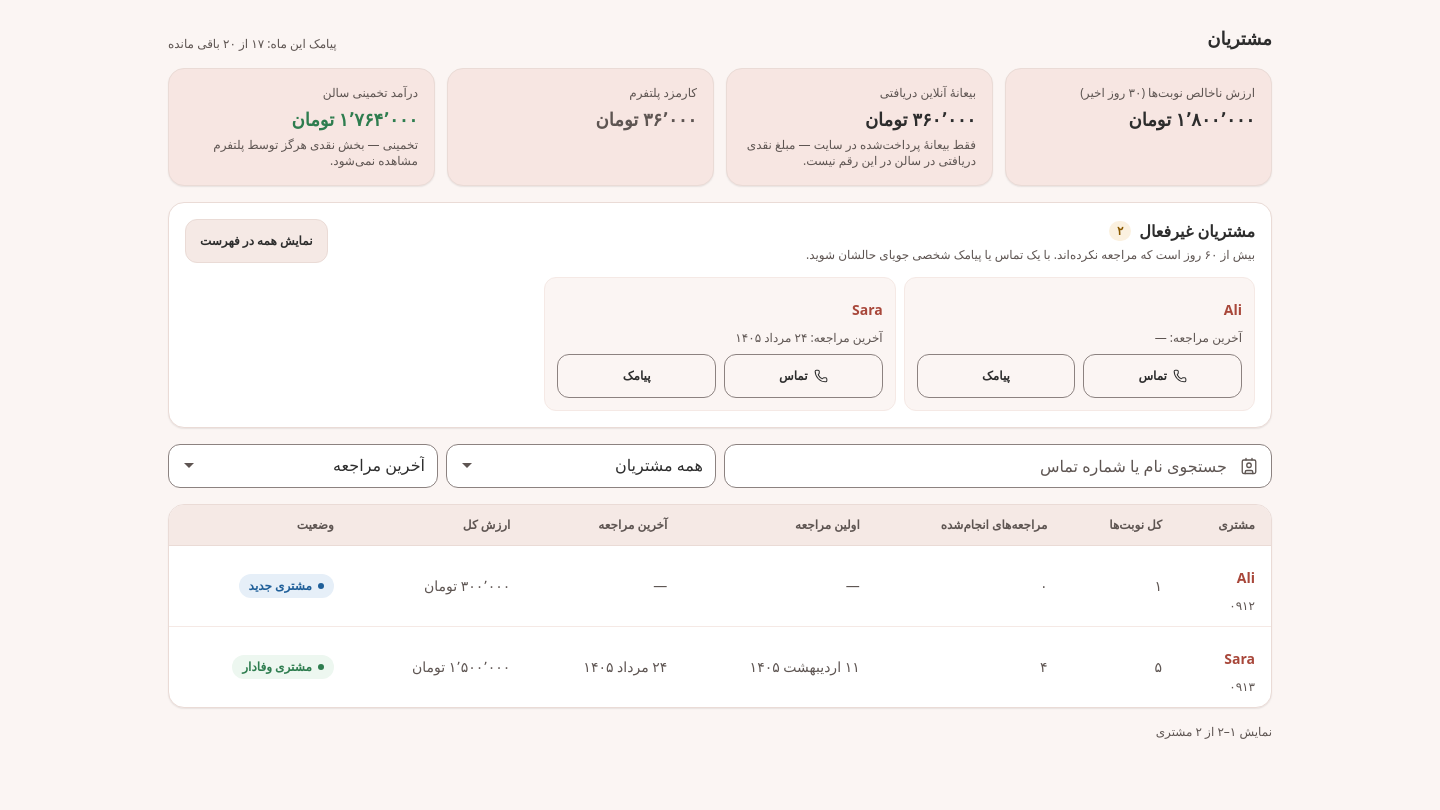
Test case: CustomersView › ignores a stale response that arrives after a newer one
Type "مر" into the field with test id "customer-search". click: (998, 466)
box: [724,444,1272,488]
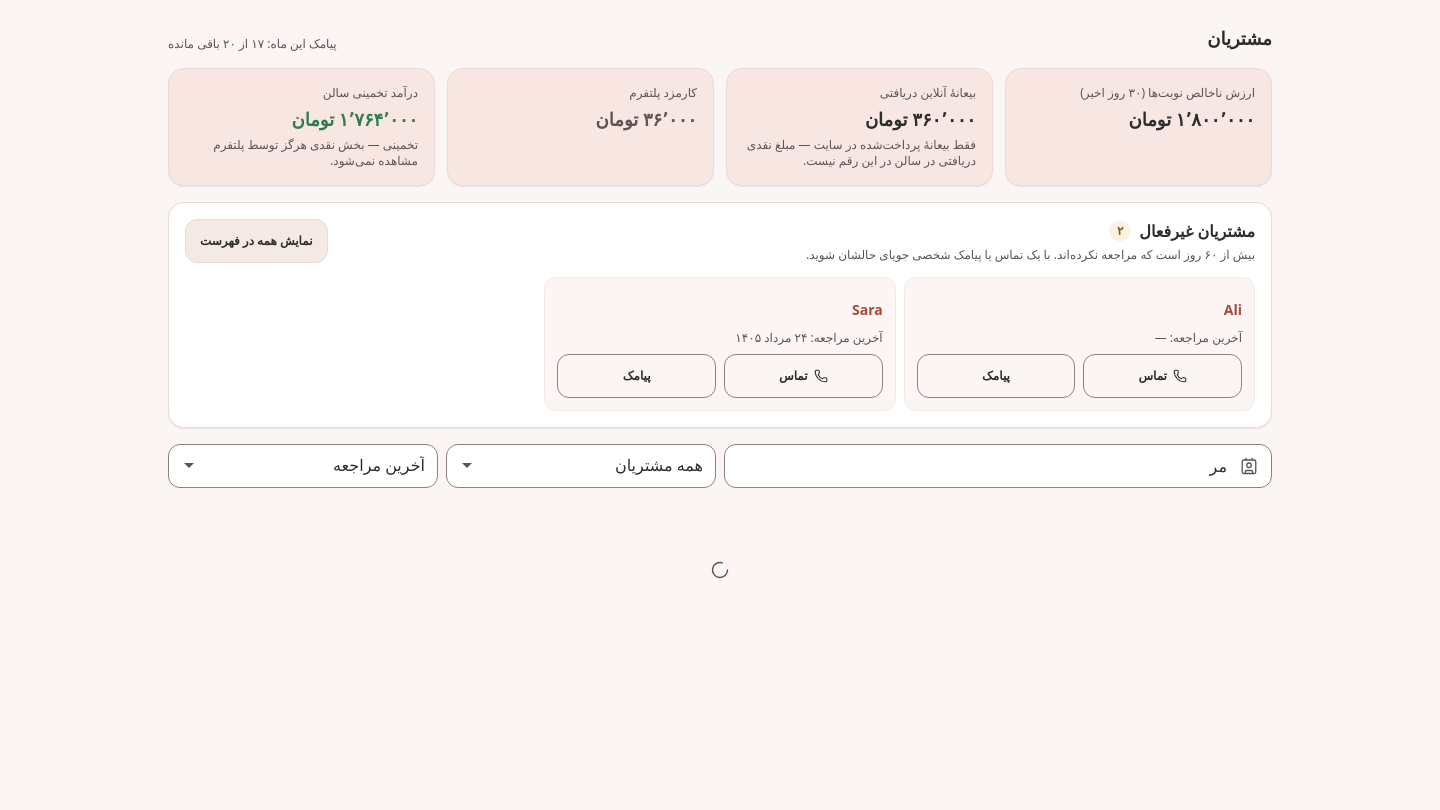
Replace the text in the field with test id "customer-search" with "مریم". click: (998, 466)
box: [724,444,1272,488]
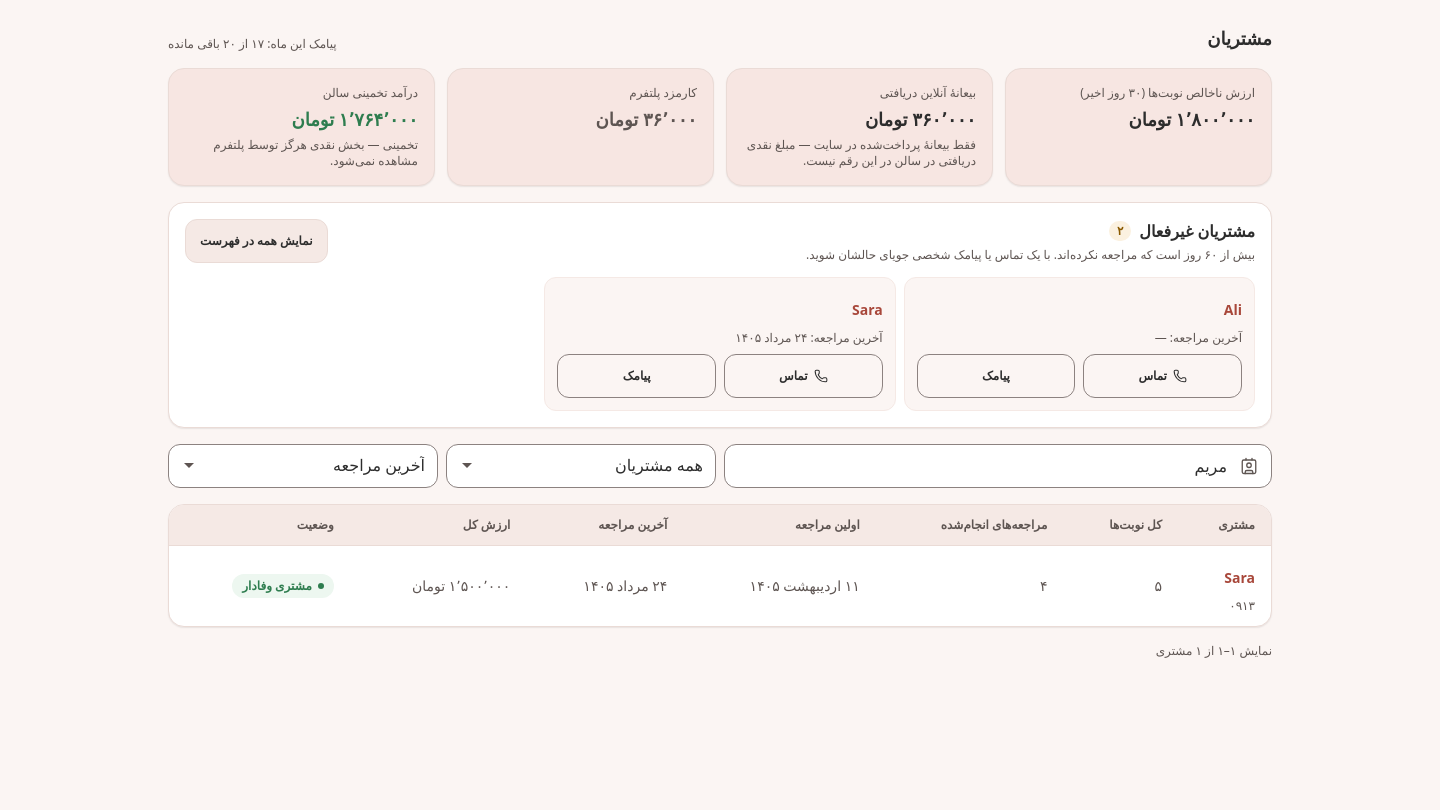
Expected: the text "Sara" is shown, [852,300,883,319]
Now the number of rows with test id "customer-row" is 1, box [169,546,1271,626]
